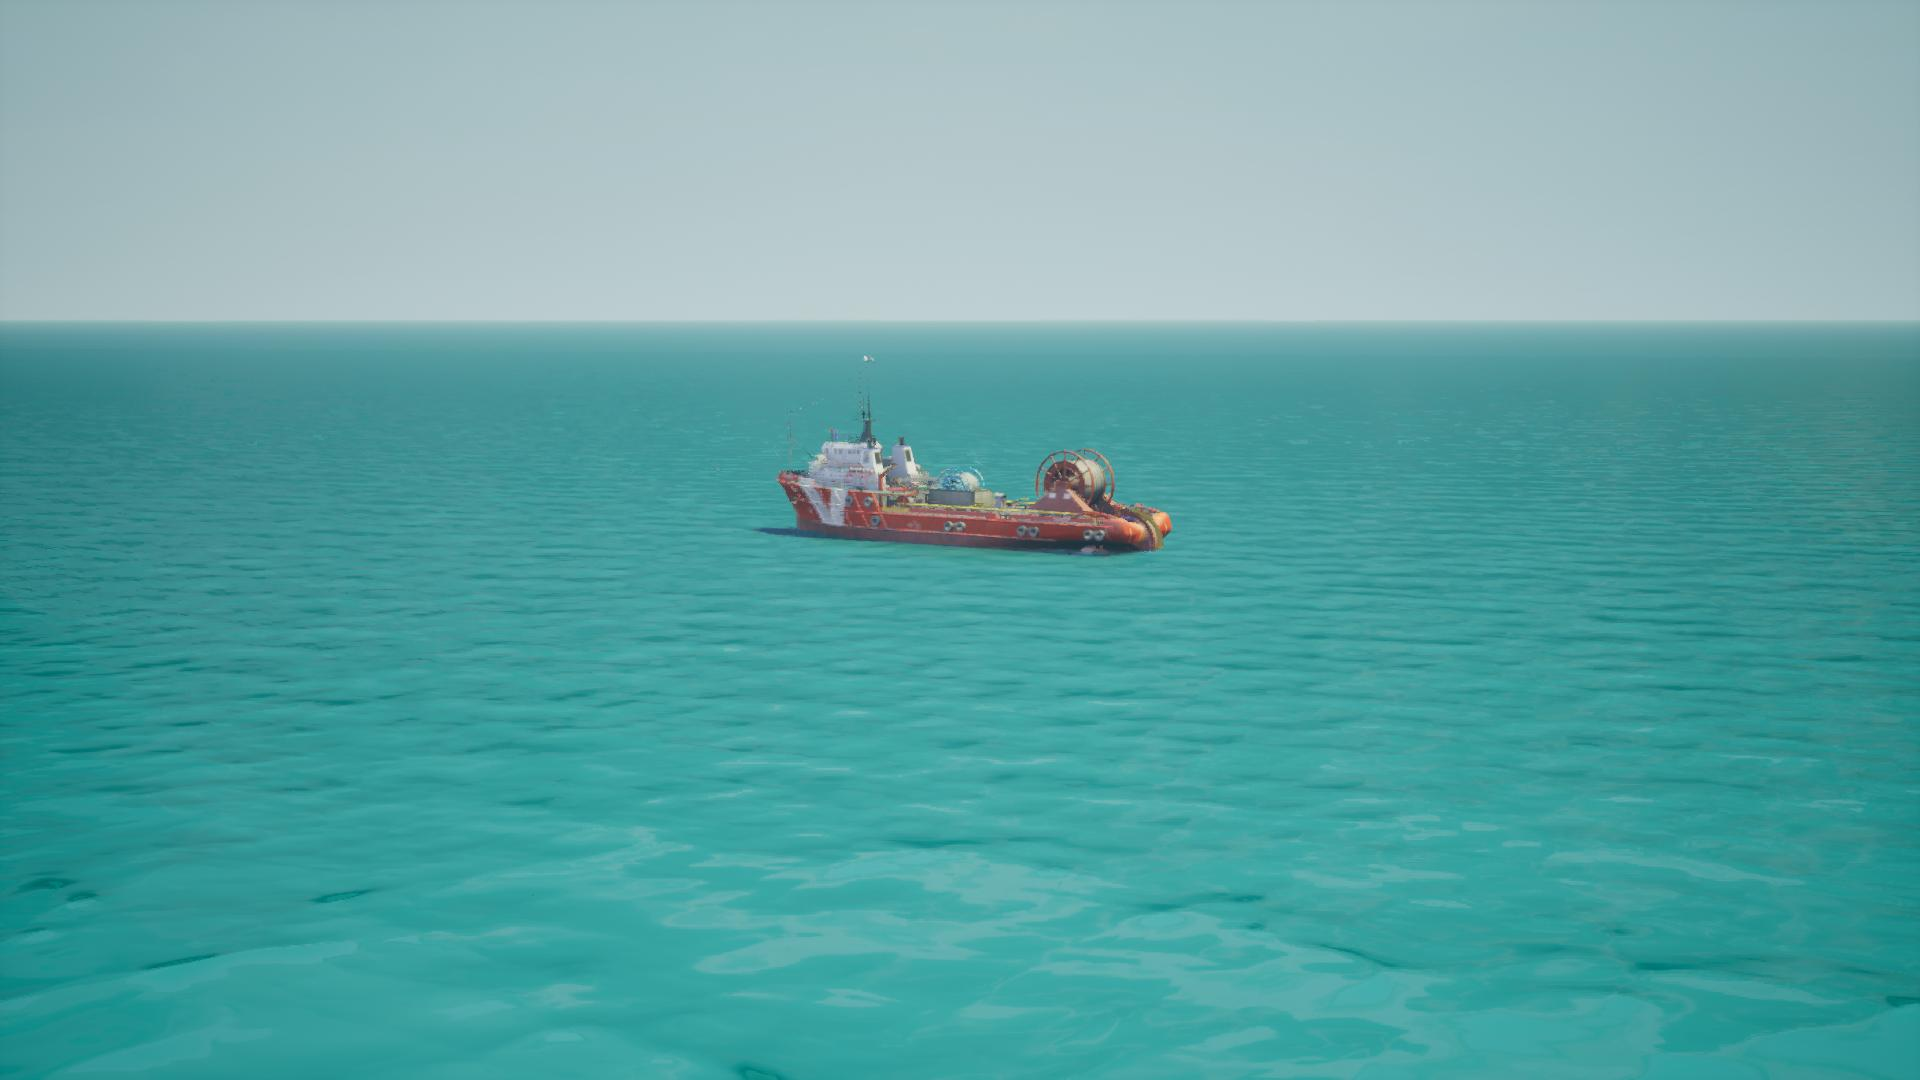Tug Boat: (765, 400, 1167, 560)
